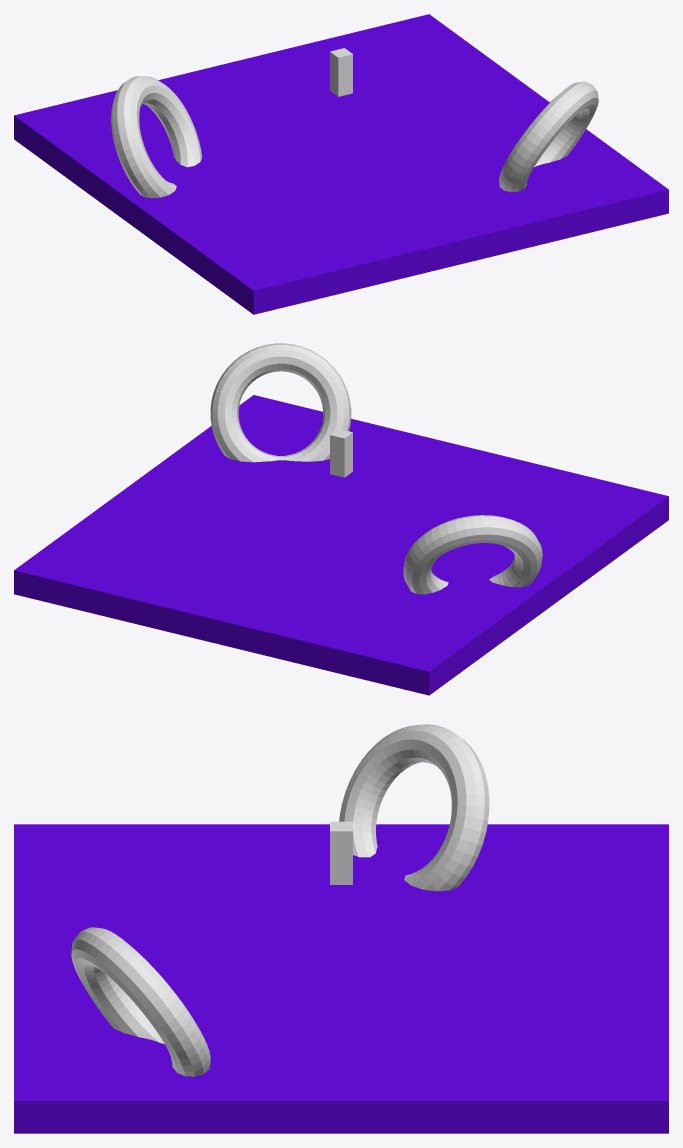
Rendered from test_world.glb.
3 renders of one model, top to bottom at view 1: azimuth 30°, elevation 25°; view 2: azimuth 150°, elevation 25°; view 3: azimuth 270°, elevation 25°, orthographic. The views are drawn at different scales.
Visible parts, largest first — view 1: Ground, Torus, Torus.001, Player; view 2: Ground, Torus.001, Torus, Player; view 3: Ground, Torus, Torus.001, Player.
Boxes of the visible parts, x1,y1,x2,y2 form: Ground: [14, 14, 668, 314]; Torus: [111, 76, 202, 198]; Torus.001: [499, 81, 598, 192]; Player: [330, 48, 352, 96]; Ground: [14, 395, 668, 695]; Torus.001: [210, 343, 351, 462]; Torus: [403, 515, 542, 594]; Player: [330, 429, 352, 477]; Ground: [14, 824, 668, 1133]; Torus: [339, 724, 489, 891]; Torus.001: [71, 927, 210, 1076]; Player: [330, 821, 352, 884].
Bounding box in the file's own units: 56.62 × 16.7 × 56.23.
